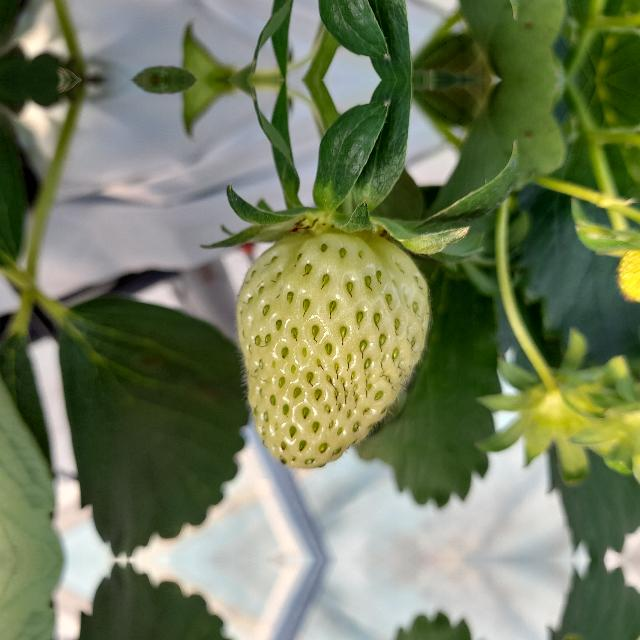Health_25: (234, 226, 434, 468)
